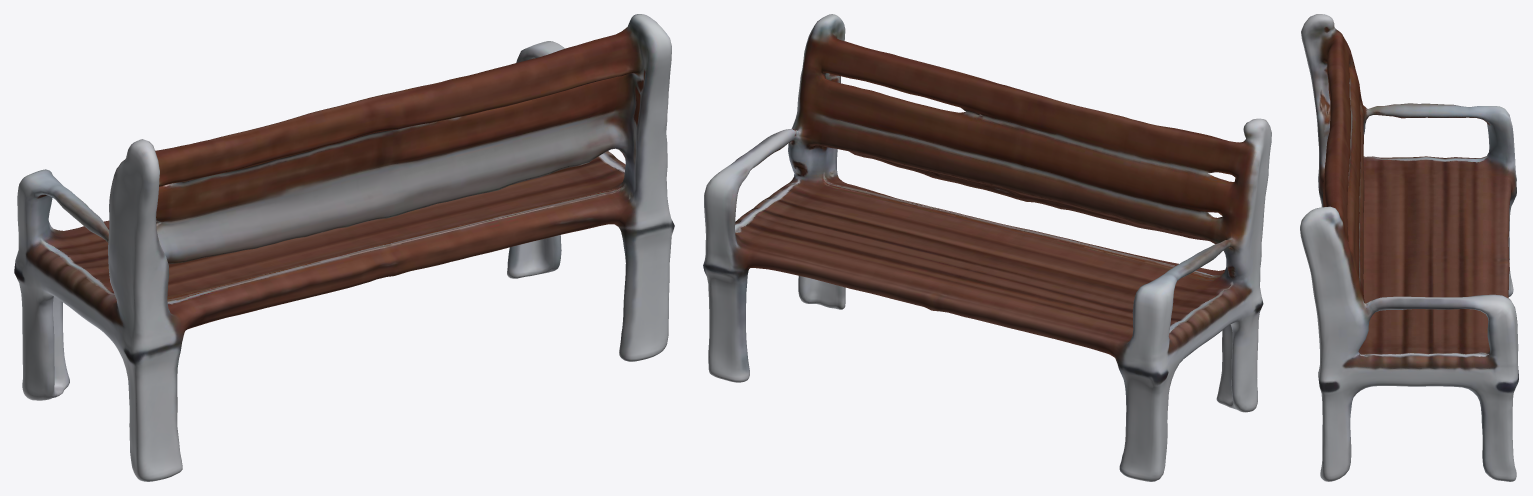
Rendered from _wooden_benches__3d_.obj.
3 renders of one model, left to right at view 1: azimuth 30°, elevation 25°; view 2: azimuth 150°, elevation 25°; view 3: azimuth 270°, elevation 25°, orthographic. The views are drawn at different scales.
Parts seen in each view (by area): view 1: mesh; view 2: mesh; view 3: mesh.
Boxes of the visible parts, <box> form: mesh: <box>14,14,674,481</box>; mesh: <box>703,14,1271,481</box>; mesh: <box>1300,14,1518,481</box>.
Bounding box in the file's own units: 0.9976 × 0.5938 × 0.4373.
